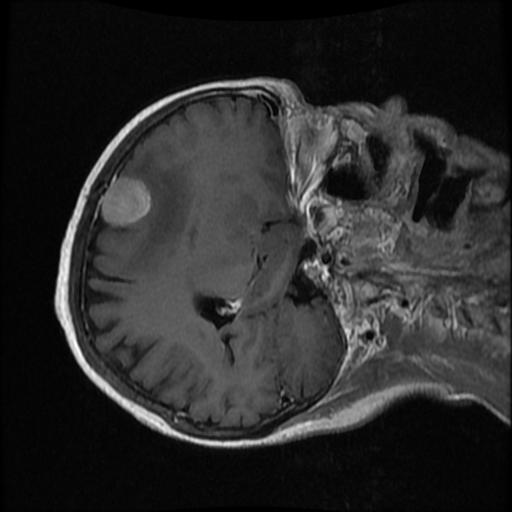meningioma: (101, 177, 150, 227)
